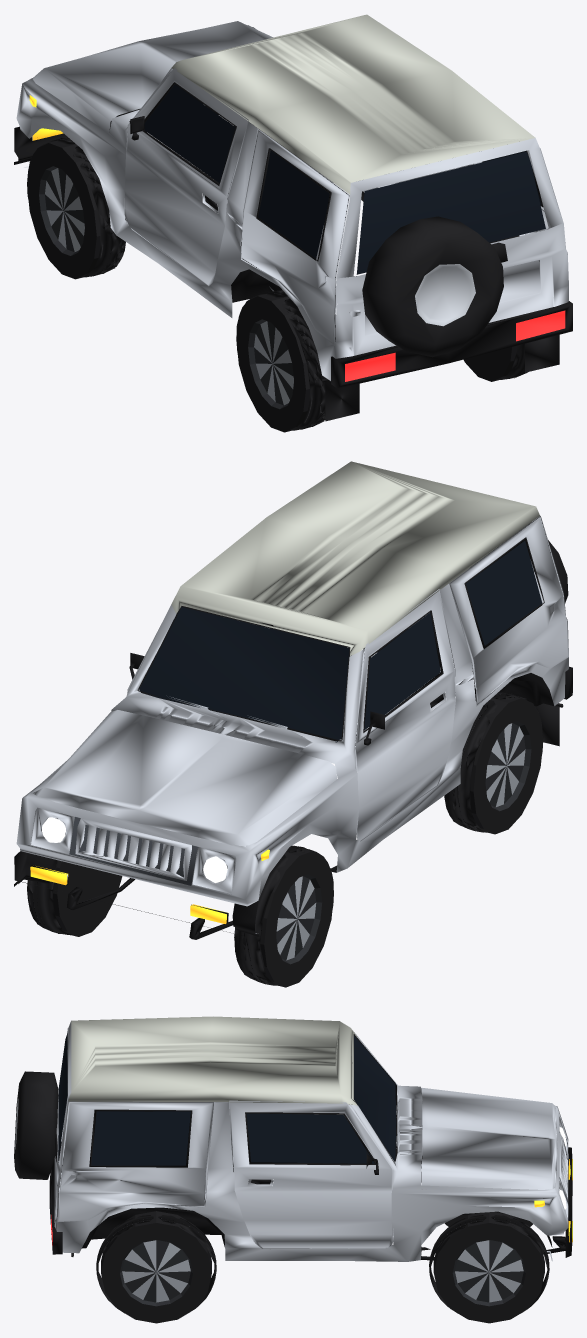
The model's file is car_jeep.glb.
3 views of the same model, one above another, from view 1: azimuth 30°, elevation 25°; view 2: azimuth 150°, elevation 25°; view 3: azimuth 270°, elevation 25° (orthographic). The views are drawn at different scales.
Visible parts, largest first — view 1: body, wheel_r, wheel_f; view 2: body, wheel_f, wheel_r; view 3: body, wheel_f, wheel_r.
Boxes of the visible parts, x1,y1,x2,y2 form: body: (14, 14, 572, 430); wheel_r: (236, 290, 516, 432); wheel_f: (27, 129, 303, 279); body: (14, 461, 572, 985); wheel_f: (53, 848, 333, 987); wheel_r: (453, 692, 543, 834); body: (14, 1016, 572, 1313); wheel_f: (433, 1211, 544, 1323); wheel_r: (101, 1211, 211, 1323).
Bounding box in the file's own units: 1.67 × 1.78 × 4.
Materials: 2 (1 with a texture image).
